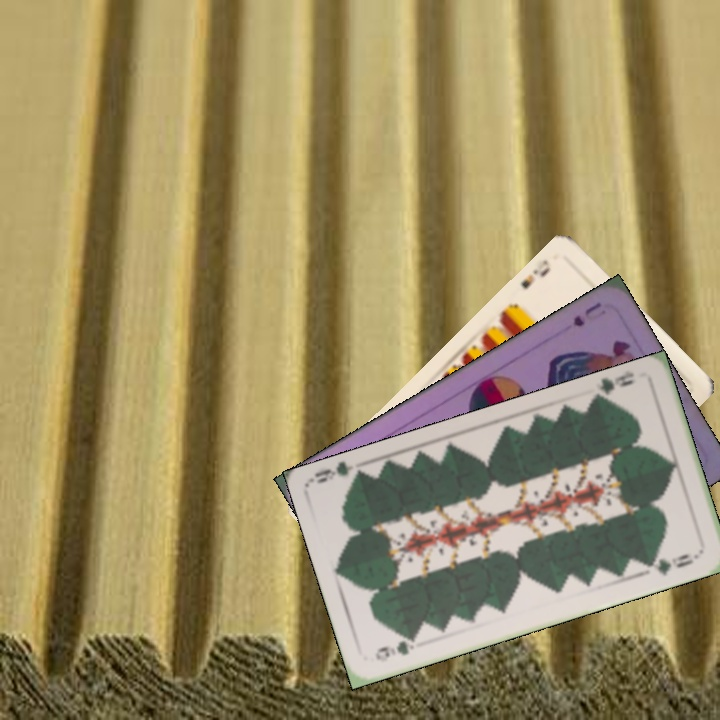E9: (517, 255, 553, 292)
G9: (590, 368, 636, 404), (371, 632, 419, 665)
SU: (569, 298, 604, 330)
